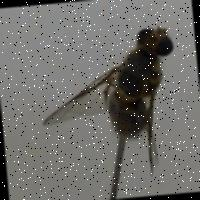Oriental-fruit-fly: (26, 18, 188, 188)
